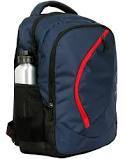bag: (9, 1, 120, 159)
